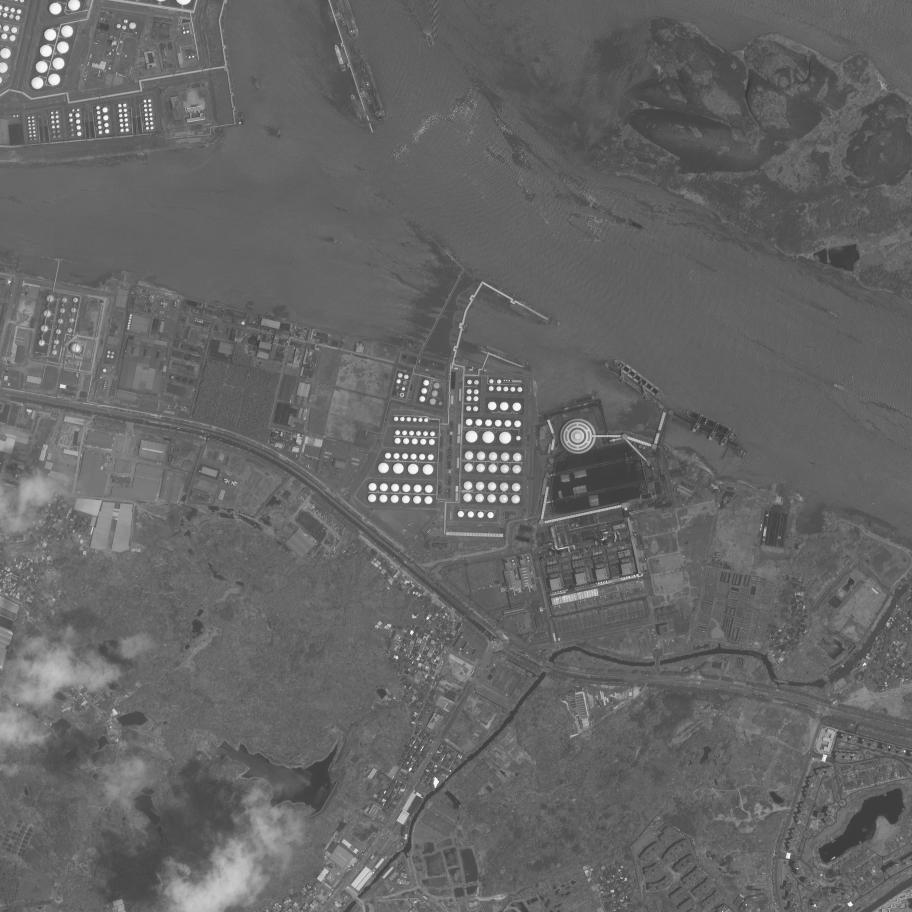ship: (610, 355, 670, 404), (358, 58, 389, 125), (684, 406, 741, 442), (333, 43, 347, 73), (349, 93, 363, 122), (624, 218, 651, 233), (507, 303, 531, 319), (484, 344, 510, 357), (832, 382, 851, 394), (573, 395, 596, 404), (824, 308, 841, 320), (589, 203, 604, 215), (337, 207, 352, 215), (515, 357, 530, 365), (426, 34, 434, 46), (239, 111, 245, 125), (333, 239, 343, 245), (237, 112, 241, 124), (255, 80, 260, 89), (277, 129, 282, 138)
storage-tank: (39, 44, 53, 58), (56, 40, 70, 54), (43, 28, 57, 41), (35, 61, 49, 74), (48, 73, 61, 87), (31, 77, 44, 90), (61, 25, 74, 38), (52, 57, 65, 70), (499, 432, 512, 445), (465, 430, 478, 443), (482, 431, 495, 444), (49, 2, 62, 15), (70, 343, 83, 355), (0, 47, 11, 60), (407, 464, 419, 475), (422, 464, 434, 475), (392, 463, 404, 474), (378, 462, 389, 474), (512, 452, 522, 462), (500, 452, 510, 462), (476, 451, 486, 461), (511, 482, 521, 492), (487, 401, 497, 411), (488, 452, 498, 461), (464, 451, 474, 460), (500, 464, 509, 474), (463, 481, 473, 490), (499, 494, 508, 504), (475, 482, 485, 491), (475, 493, 484, 503), (463, 493, 472, 503), (500, 482, 509, 492), (487, 482, 497, 491), (512, 402, 521, 412), (390, 483, 399, 492), (46, 294, 55, 303), (43, 309, 52, 318), (40, 324, 49, 333), (488, 464, 497, 473), (476, 464, 485, 473), (464, 463, 473, 472), (512, 465, 521, 474), (511, 495, 520, 504), (487, 494, 496, 503), (402, 484, 411, 493), (401, 495, 410, 504), (413, 484, 422, 493), (424, 496, 433, 505), (500, 402, 509, 411), (368, 494, 376, 503), (368, 483, 377, 491), (380, 483, 388, 492), (379, 495, 388, 503), (390, 495, 399, 503), (413, 496, 422, 504), (424, 485, 433, 493), (129, 22, 137, 30), (10, 26, 18, 34), (504, 420, 512, 428), (484, 419, 492, 427), (38, 339, 45, 347), (0, 33, 8, 40), (2, 25, 10, 32), (457, 510, 464, 518), (495, 419, 502, 427), (514, 420, 521, 428), (61, 297, 68, 304), (57, 318, 64, 325), (68, 317, 75, 324), (66, 327, 73, 334), (9, 35, 16, 42), (466, 419, 473, 426), (475, 419, 482, 426), (467, 511, 474, 518), (477, 511, 484, 518), (487, 512, 494, 519), (420, 438, 427, 445), (428, 439, 435, 446), (411, 438, 418, 445), (394, 437, 401, 444), (427, 454, 434, 461), (419, 453, 426, 460), (410, 453, 417, 460), (402, 453, 409, 460), (433, 382, 440, 389), (431, 390, 438, 397), (429, 398, 436, 405), (55, 329, 62, 335), (59, 308, 66, 314), (51, 349, 58, 355), (72, 297, 79, 303), (70, 307, 77, 313), (419, 396, 426, 402), (403, 438, 409, 445), (393, 453, 400, 459), (421, 388, 428, 394), (53, 339, 59, 345), (103, 115, 109, 121), (102, 107, 108, 113), (116, 23, 122, 29), (154, 22, 160, 28), (161, 23, 167, 29), (15, 15, 21, 21), (10, 7, 16, 13), (3, 6, 9, 12), (2, 12, 8, 18), (447, 455, 453, 461), (661, 607, 667, 613), (466, 406, 472, 412), (385, 453, 391, 459), (423, 380, 429, 386), (496, 386, 502, 392), (473, 389, 479, 395), (466, 389, 472, 395), (466, 396, 472, 402), (473, 396, 479, 402), (488, 386, 494, 392), (503, 386, 509, 392), (399, 392, 405, 398), (517, 387, 523, 393), (176, 376, 181, 382), (122, 25, 127, 31), (16, 9, 22, 14), (9, 13, 14, 19), (75, 119, 81, 124), (473, 406, 478, 412), (430, 431, 435, 437), (423, 431, 428, 437), (416, 430, 421, 436), (409, 430, 414, 436), (402, 430, 407, 436), (394, 430, 400, 435), (394, 416, 399, 422), (467, 379, 472, 385), (404, 374, 409, 380), (402, 380, 407, 386), (510, 387, 516, 392), (104, 123, 109, 128), (105, 129, 110, 134), (119, 123, 124, 128), (189, 380, 194, 385), (183, 378, 188, 383), (170, 375, 175, 380), (123, 19, 128, 24), (75, 113, 80, 118), (76, 125, 81, 130), (77, 131, 82, 136), (516, 436, 521, 441), (448, 449, 453, 454), (656, 609, 661, 614), (449, 407, 454, 412), (418, 417, 423, 422), (412, 417, 417, 422), (406, 417, 411, 422), (400, 417, 405, 422), (489, 379, 494, 384), (497, 379, 502, 384), (474, 380, 479, 385), (395, 385, 400, 390), (398, 373, 403, 378), (396, 379, 401, 384), (98, 130, 102, 135), (124, 123, 129, 127), (102, 368, 106, 373), (98, 125, 102, 130), (69, 123, 74, 127), (68, 113, 73, 117), (70, 133, 75, 137), (96, 111, 101, 115), (571, 523, 575, 528), (638, 444, 642, 449), (449, 412, 454, 416), (424, 418, 428, 423), (438, 402, 443, 406), (110, 355, 114, 359), (148, 108, 152, 112), (144, 113, 148, 117), (149, 112, 153, 116), (149, 117, 153, 121), (145, 122, 149, 126), (150, 126, 154, 130), (143, 104, 147, 108), (118, 104, 122, 108), (123, 103, 127, 107), (118, 109, 122, 113), (119, 114, 123, 118), (125, 128, 129, 132), (124, 113, 128, 117), (124, 118, 128, 122), (120, 128, 124, 132), (241, 321, 245, 325), (97, 121, 101, 125), (55, 115, 59, 119), (56, 125, 60, 129), (52, 130, 56, 134), (76, 108, 80, 112), (69, 118, 73, 122), (70, 128, 74, 132), (96, 106, 100, 110), (97, 116, 101, 120), (52, 135, 56, 139), (642, 446, 646, 450), (401, 387, 405, 391), (148, 104, 152, 107), (144, 109, 148, 112), (145, 117, 148, 121), (145, 127, 149, 130), (107, 351, 111, 354), (111, 351, 114, 355), (148, 99, 151, 103), (143, 100, 147, 103), (123, 109, 127, 112), (119, 119, 123, 122), (106, 355, 110, 358), (186, 30, 189, 34), (182, 31, 186, 34), (51, 111, 54, 115), (51, 120, 54, 124), (52, 125, 55, 129), (57, 135, 61, 138), (28, 131, 32, 134), (31, 120, 35, 123), (32, 123, 35, 127), (150, 122, 153, 125), (188, 56, 191, 59), (194, 319, 197, 322), (201, 321, 204, 324), (127, 327, 130, 330), (127, 324, 130, 327), (128, 319, 131, 322), (129, 314, 132, 317), (111, 49, 114, 52), (55, 111, 58, 114), (51, 116, 54, 119), (56, 120, 59, 123), (72, 109, 75, 112), (33, 134, 36, 137), (33, 131, 36, 134), (57, 130, 60, 133), (27, 116, 30, 119), (29, 138, 32, 141), (33, 138, 36, 141), (13, 115, 16, 118), (31, 116, 34, 119), (28, 120, 31, 123), (28, 124, 31, 127), (28, 127, 31, 130), (32, 127, 35, 130), (192, 55, 194, 58), (128, 322, 131, 324), (129, 317, 132, 319), (29, 135, 32, 137), (16, 115, 19, 117), (503, 379, 505, 382), (506, 379, 508, 382), (508, 379, 510, 382), (197, 320, 199, 322), (199, 321, 201, 323), (135, 32, 137, 34), (512, 560, 514, 562)
